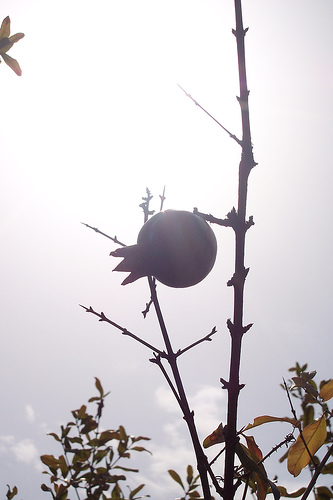pomogranate: (106, 207, 216, 291)
